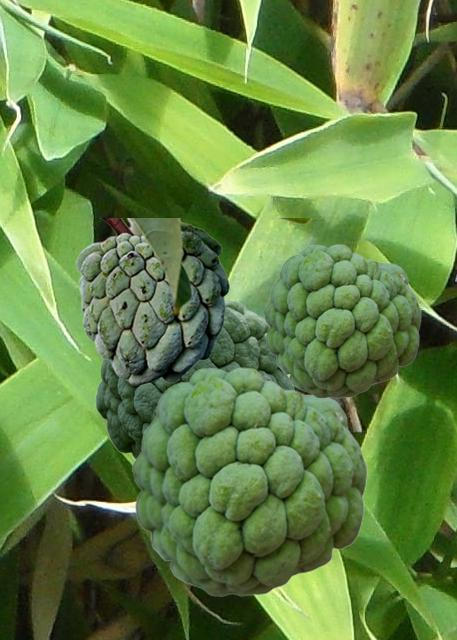atis: (131, 367, 366, 595), (75, 218, 310, 385), (95, 299, 294, 458), (263, 244, 420, 397)
